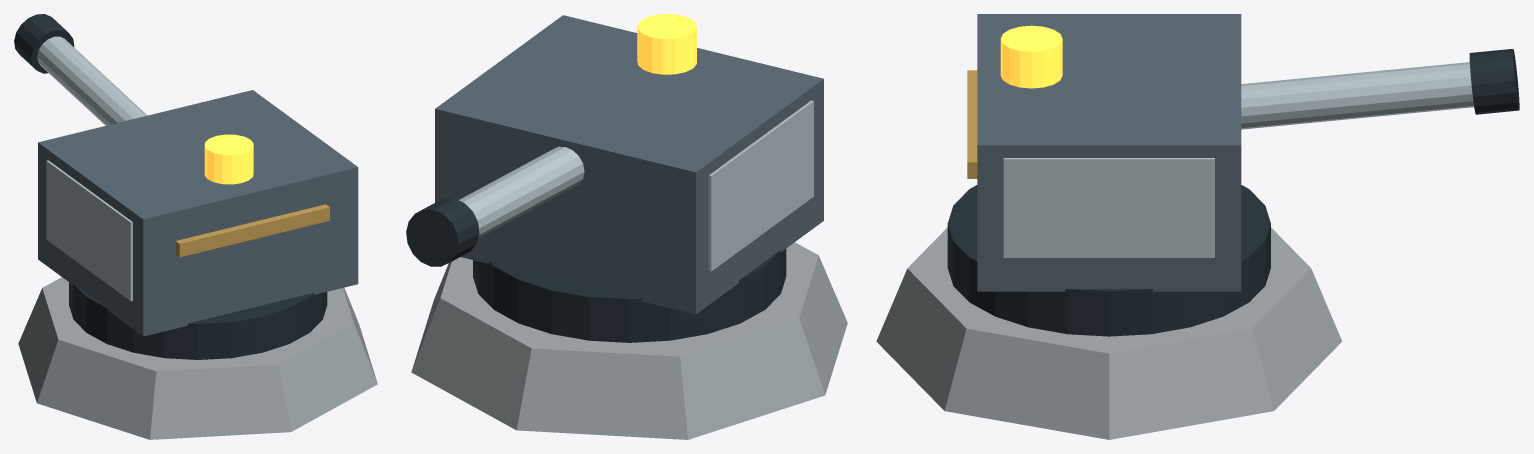
File: autocannon.glb
3 views of the same model, side by side, from view 1: azimuth 30°, elevation 25°; view 2: azimuth 150°, elevation 25°; view 3: azimuth 270°, elevation 25° (orthographic). The views are drawn at different scales.
Visible parts, largest first — view 1: armored turret, octagonal emplacement, azimuth bearing, side armor module, main cannon, gold identification bar, sensor, muzzle brake; view 2: armored turret, octagonal emplacement, azimuth bearing, side armor module, main cannon, muzzle brake, sensor; view 3: octagonal emplacement, armored turret, side armor module.001, azimuth bearing, main cannon, sensor, muzzle brake, gold identification bar.
Part boxes in pixels (x1=…): armored turret: x1=38, y1=90, x2=358, y2=336; octagonal emplacement: x1=18, y1=277, x2=377, y2=439; azimuth bearing: x1=69, y1=282, x2=327, y2=359; side armor module: x1=46, y1=160, x2=132, y2=300; main cannon: x1=37, y1=36, x2=147, y2=125; gold identification bar: x1=175, y1=204, x2=329, y2=257; sensor: x1=204, y1=134, x2=253, y2=184; muzzle brake: x1=14, y1=14, x2=74, y2=73; armored turret: x1=435, y1=15, x2=823, y2=314; octagonal emplacement: x1=411, y1=242, x2=847, y2=439; azimuth bearing: x1=473, y1=249, x2=786, y2=342; side armor module: x1=708, y1=100, x2=813, y2=271; main cannon: x1=458, y1=146, x2=584, y2=238; muzzle brake: x1=406, y1=198, x2=479, y2=266; sensor: x1=637, y1=14, x2=696, y2=74; octagonal emplacement: x1=876, y1=227, x2=1342, y2=439; armored turret: x1=977, y1=14, x2=1241, y2=291; side armor module.001: x1=1003, y1=158, x2=1214, y2=257; azimuth bearing: x1=947, y1=185, x2=1270, y2=336; main cannon: x1=1241, y1=62, x2=1473, y2=129; sensor: x1=1000, y1=25, x2=1062, y2=88; muzzle brake: x1=1469, y1=49, x2=1519, y2=114; gold identification bar: x1=967, y1=70, x2=977, y2=178.
Size of the model in its own units: 1.5 by 1.07 by 2.07.
